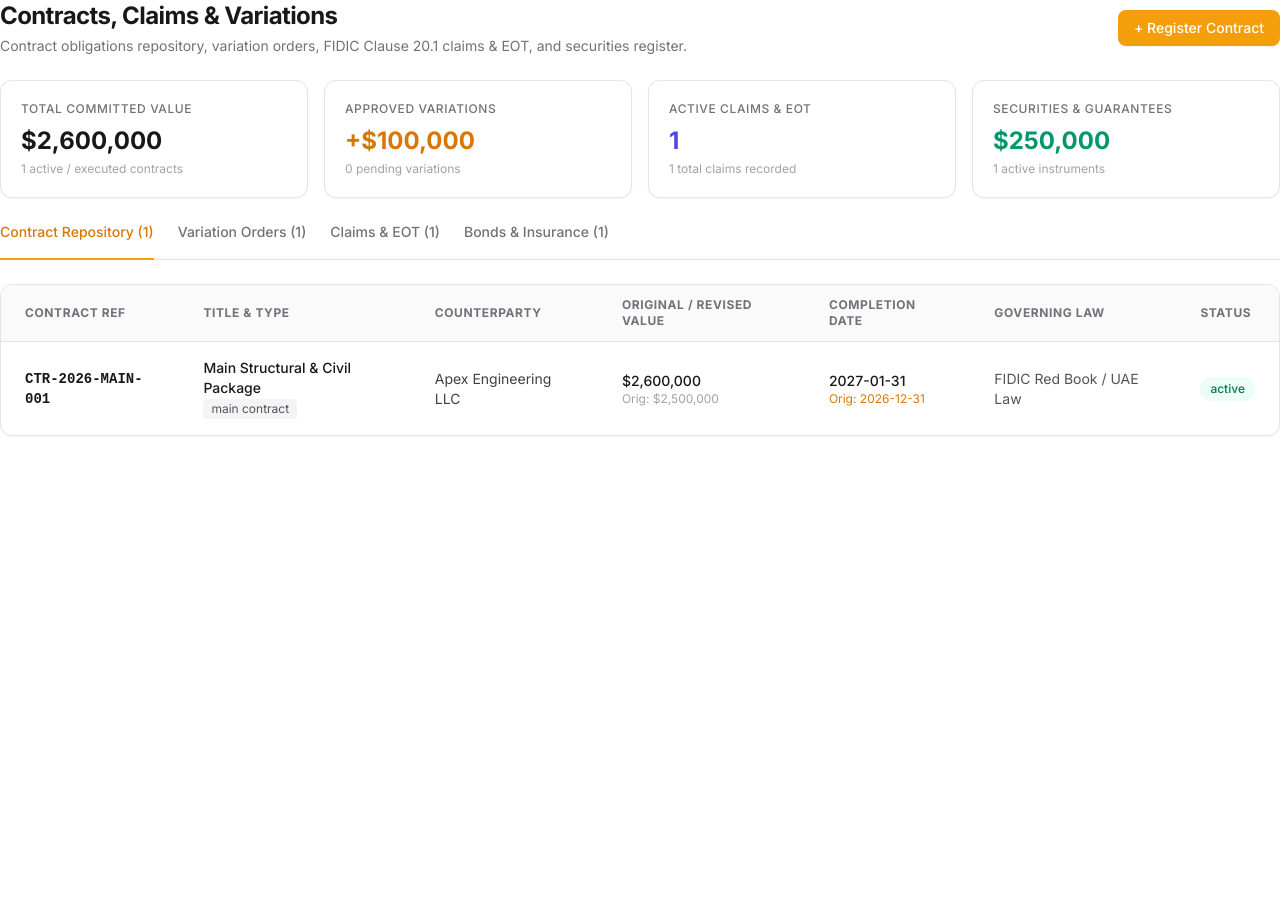
Test: M23: Contracts, Claims & Variations Page › opens Register Contract modal when clicking the action button
Click the button "+ Register Contract" at (1199, 28), box [1118,10,1279,46]
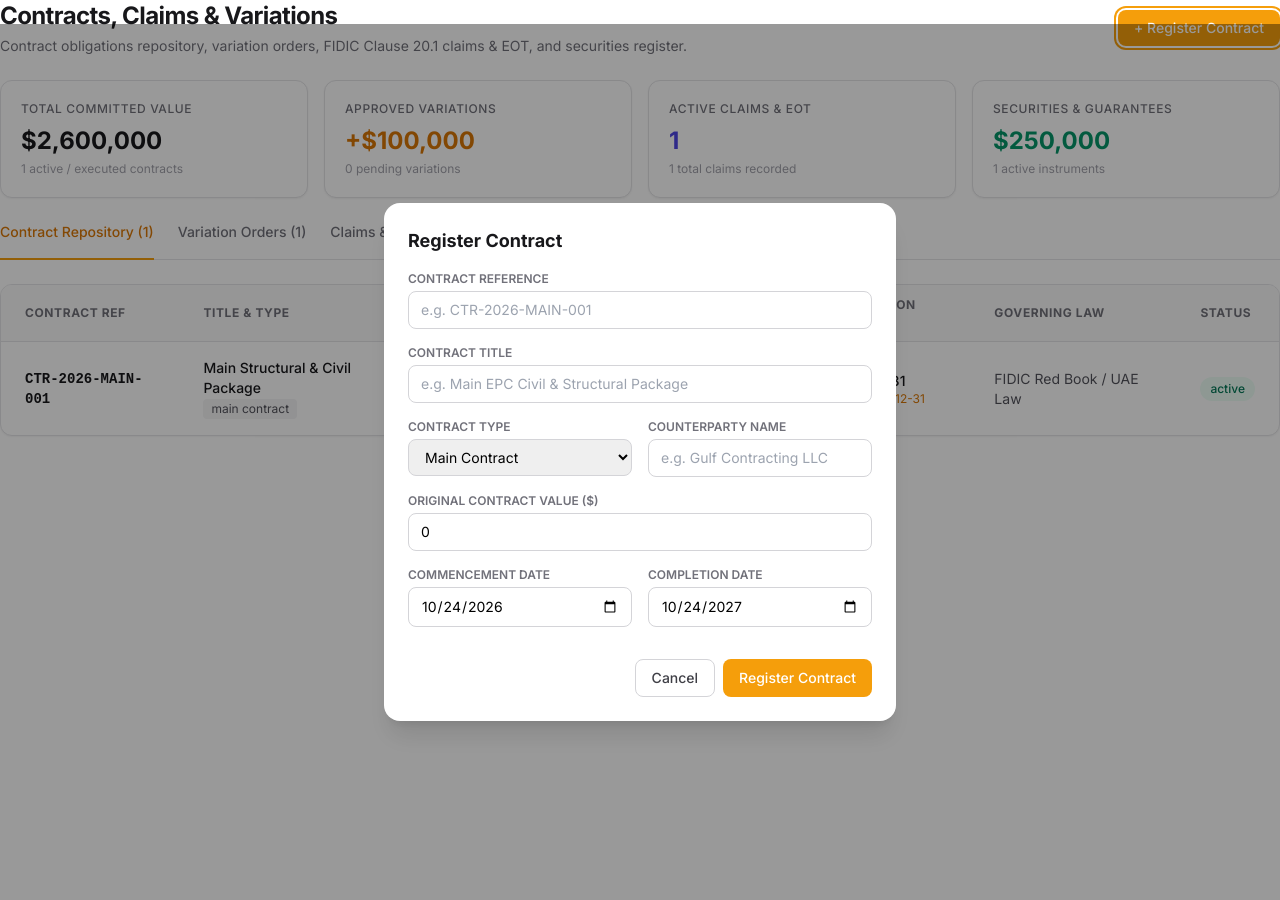
Now the heading "Register Contract" is shown, box [408,230,562,251]
Now the field with placeholder "e.g. CTR-2026-MAIN-001" is shown, box [408,291,872,329]
